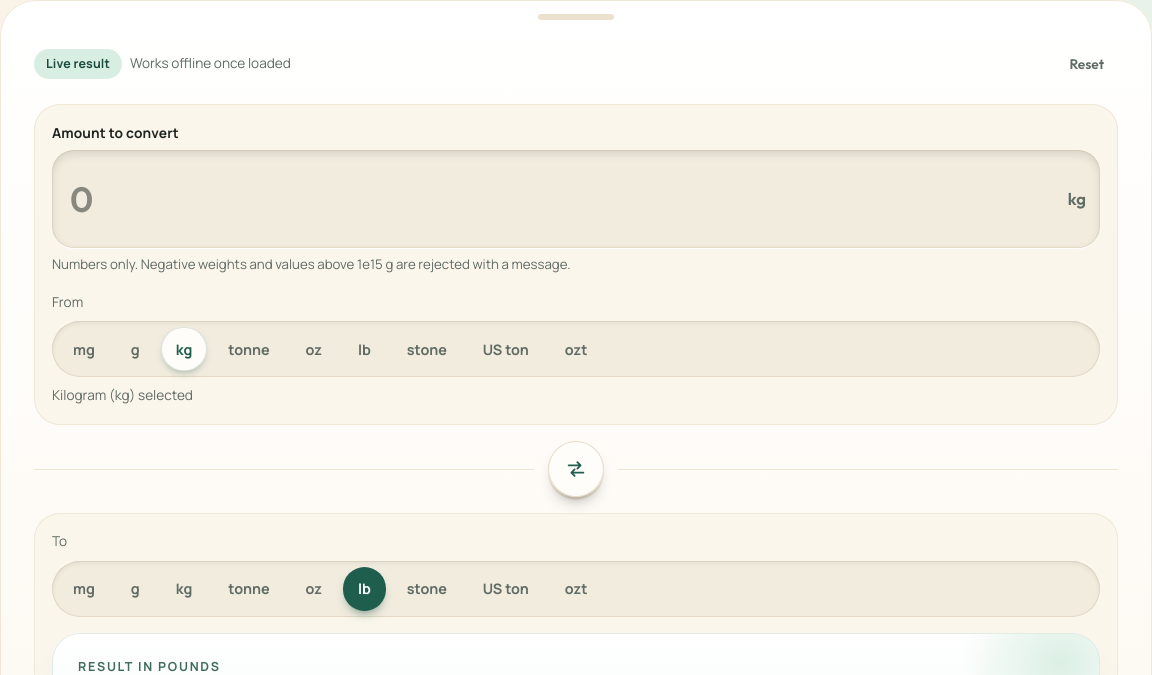
WeightConverter › empties the field and restores the default units on reset
Step 1. Click the radio button named "Stone (st)" → (427, 349), box x1=392 y1=327 x2=462 y2=371
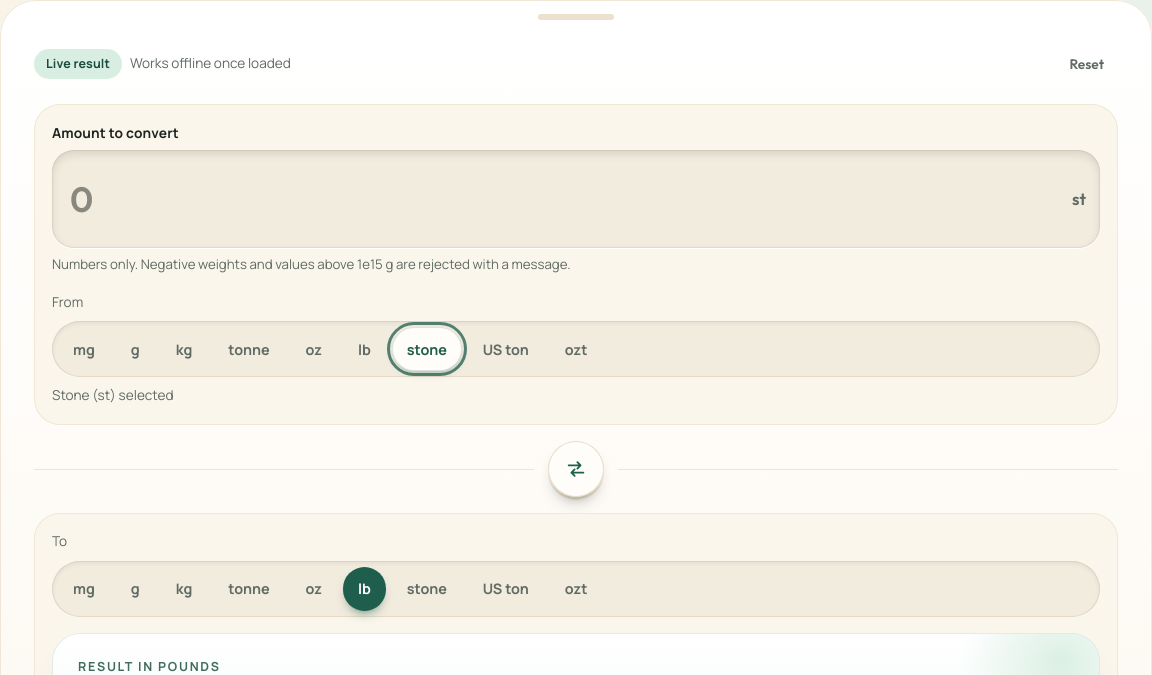
Step 2. Click the radio button named "Gram (g)" → (135, 589), box x1=116 y1=567 x2=155 y2=611
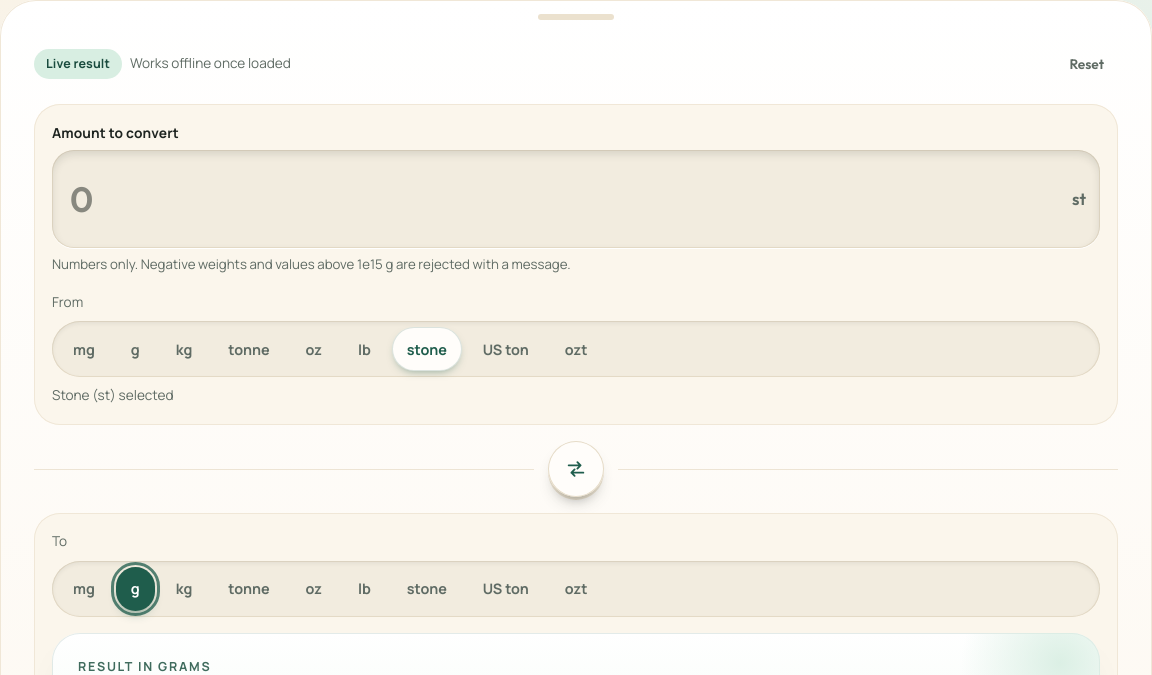
Step 3. Type "3" into the field labelled "Amount to convert" → (565, 199), box x1=66 y1=158 x2=1064 y2=240
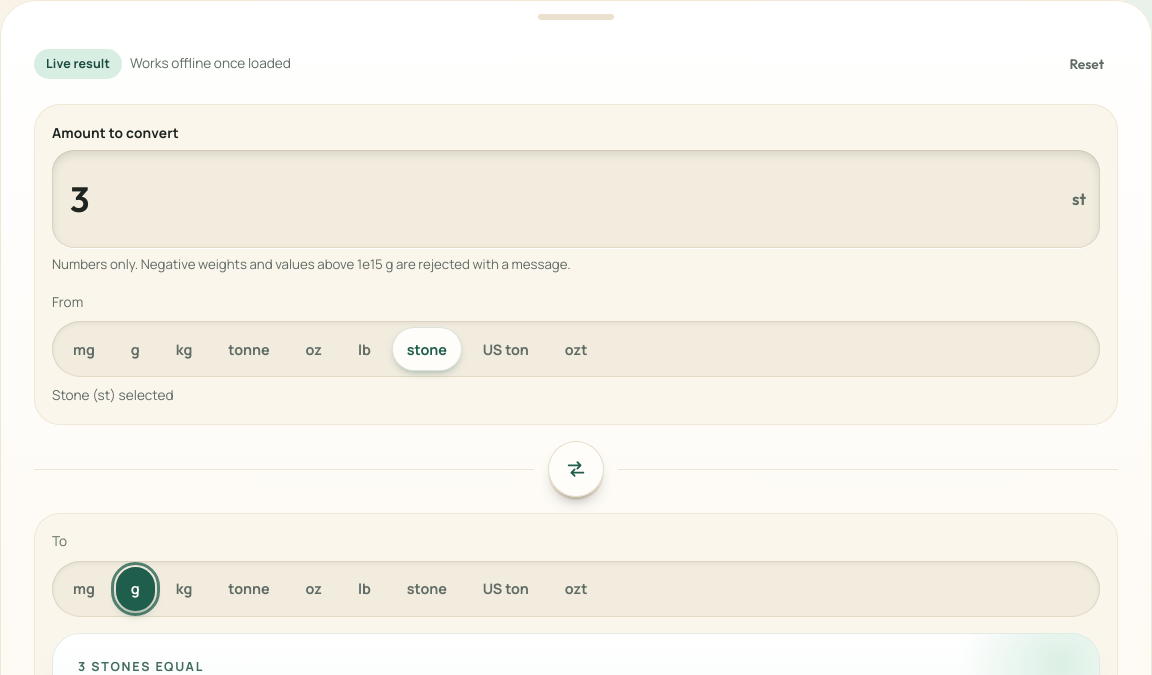
Step 4. Click the button "Reset" → (1087, 64), box x1=1055 y1=42 x2=1118 y2=86
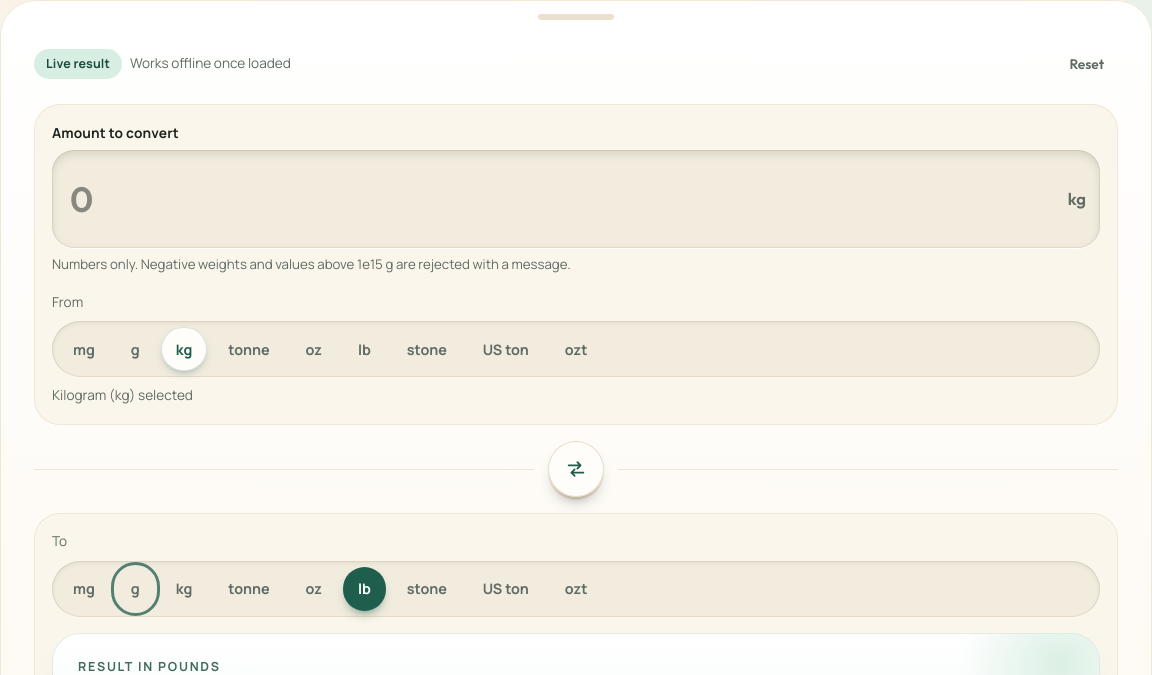
expect the field labelled "Amount to convert" is empty: met, box x1=66 y1=158 x2=1060 y2=240
expect the radio button named "Kilogram (kg)" is checked: met, box x1=161 y1=327 x2=207 y2=371
expect the radio button named "Pound (lb)" is checked: met, box x1=343 y1=567 x2=386 y2=611
